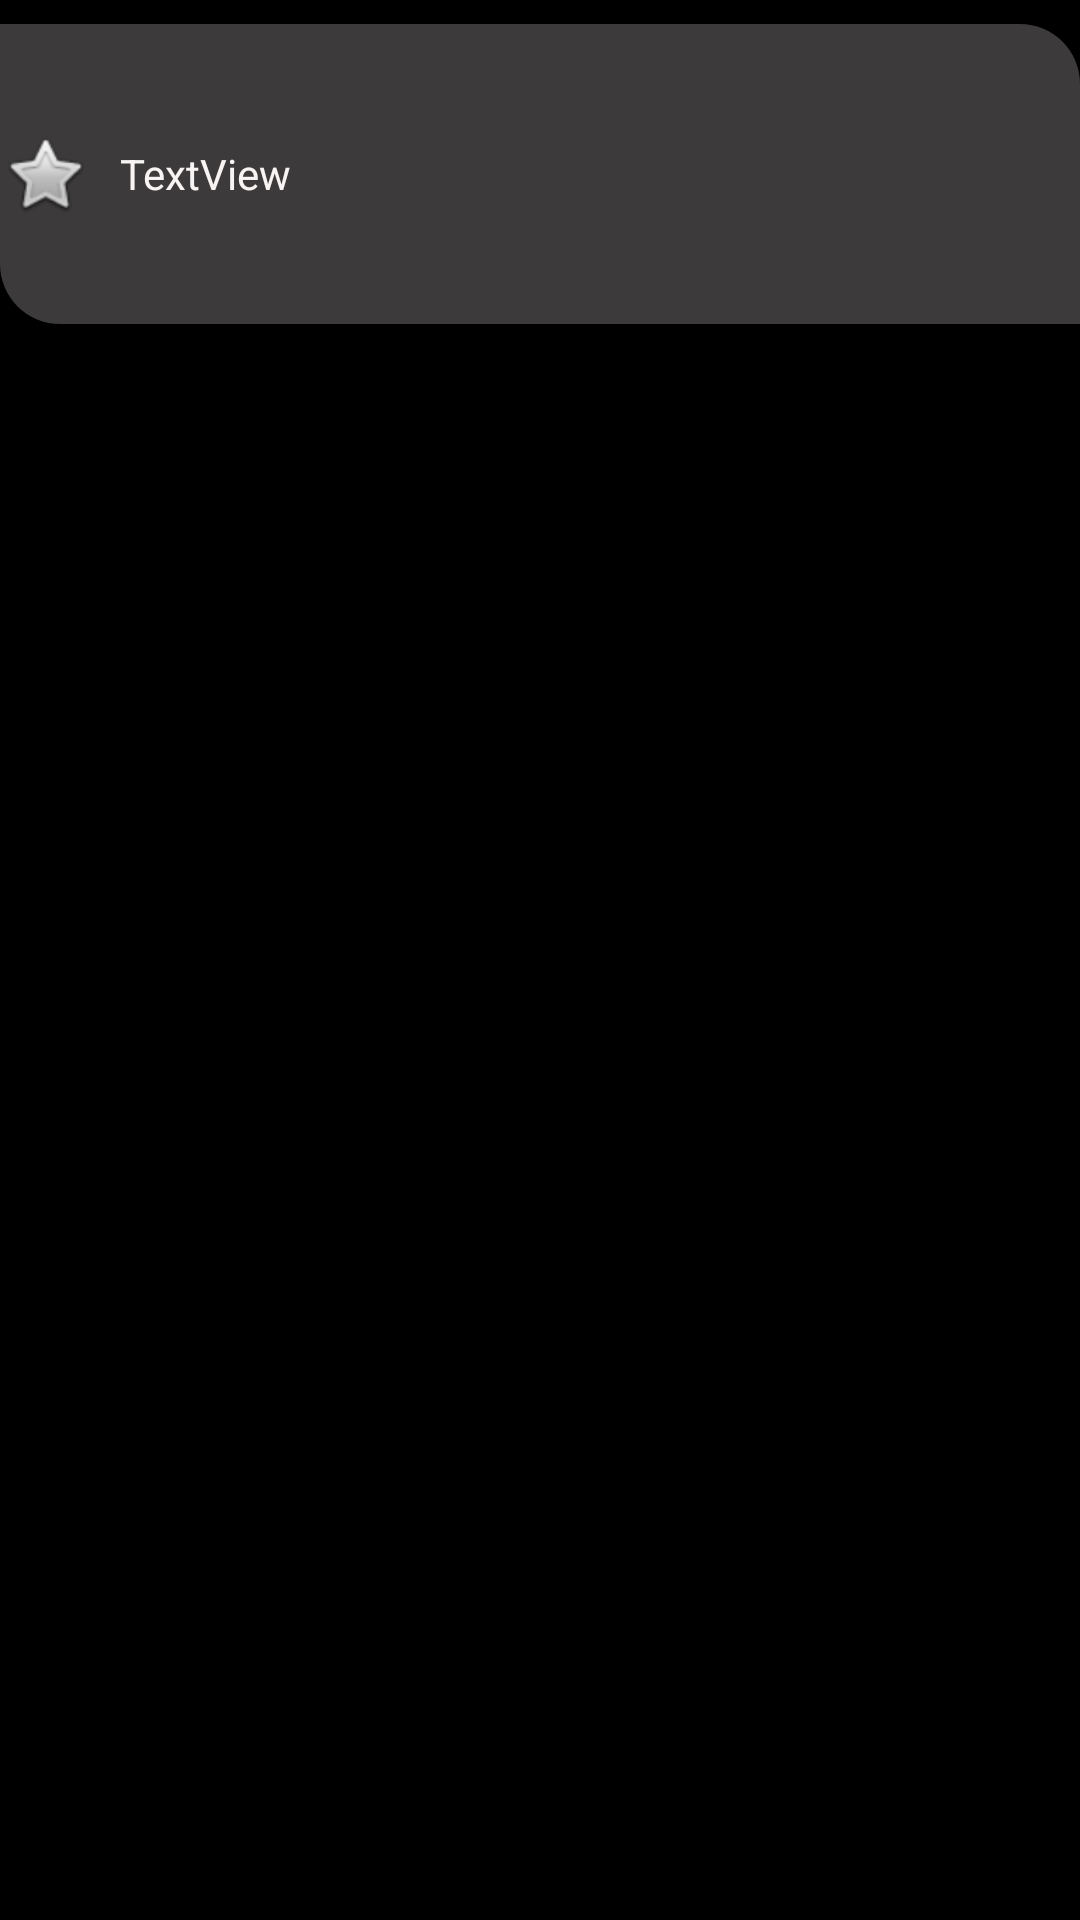

Icons on this 1080*1920 Android screen, each with its box as {"left": x1, "top": y1, "right": x2, "bottom": y2}:
star: {"left": 11, "top": 140, "right": 82, "bottom": 208}
